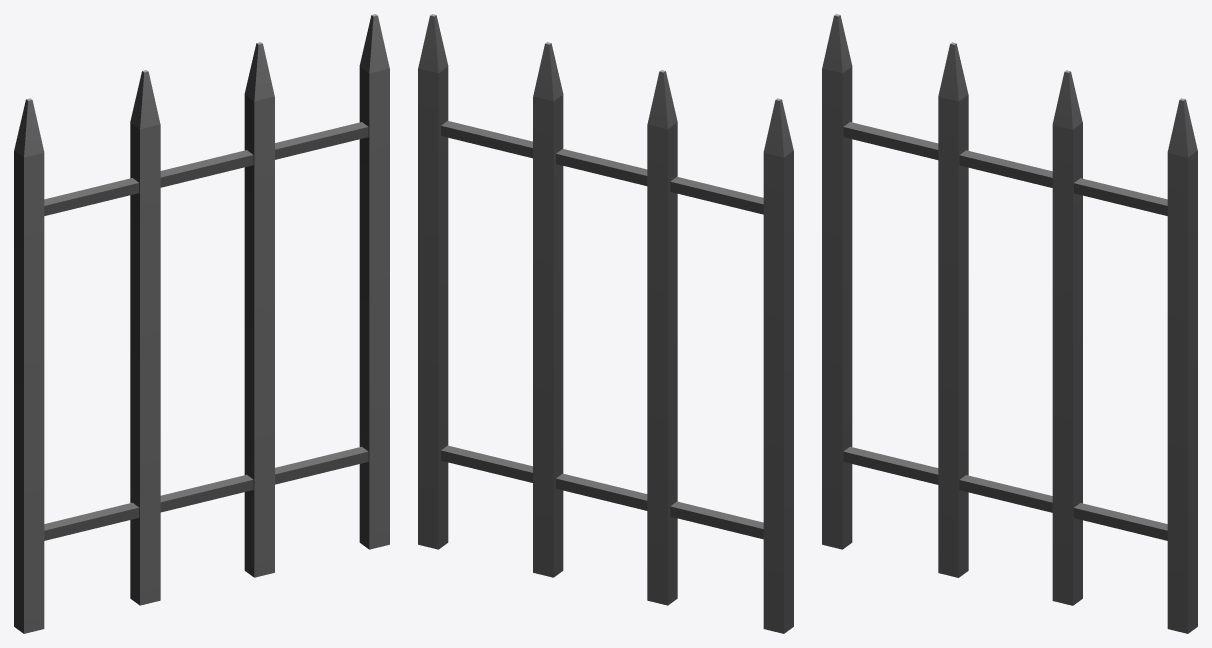
Rendered from fence_short_spike.gltf.
3 views of the same model, side by side, from view 1: azimuth 30°, elevation 25°; view 2: azimuth 150°, elevation 25°; view 3: azimuth 330°, elevation 25° (orthographic).
Visible parts, largest first — view 1: fence_short_spike; view 2: fence_short_spike; view 3: fence_short_spike.
Part boxes in pixels (left/top/right/bottom): fence_short_spike: left=14, top=14, right=389, bottom=633; fence_short_spike: left=418, top=14, right=793, bottom=633; fence_short_spike: left=822, top=14, right=1197, bottom=633.
Size of the model in its own units: 2.54 by 3.51 by 0.1183.
Materials: 1 (1 with a texture image).
